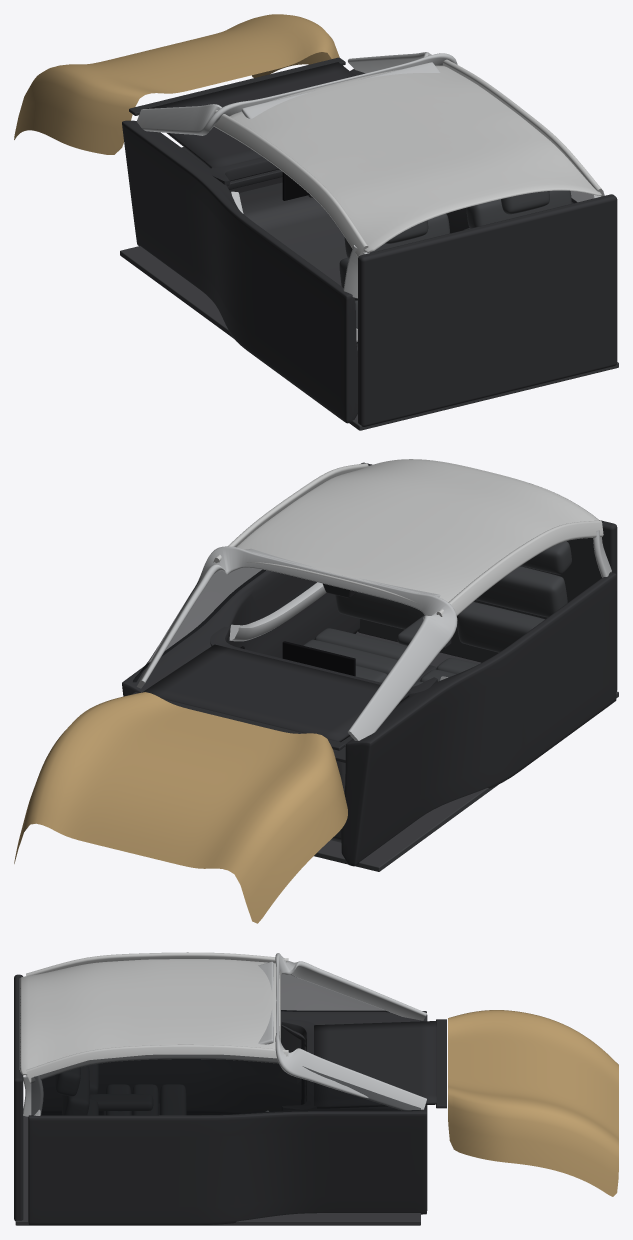
File: cabin.51d5c4b0.glb
3 renders of one model, top to bottom at view 1: azimuth 30°, elevation 25°; view 2: azimuth 150°, elevation 25°; view 3: azimuth 270°, elevation 25°, orthographic. The views are drawn at different scales.
Parts seen in each view (by area): view 1: Cabin; view 2: Cabin, Glass; view 3: Cabin, Glass.
Boxes of the visible parts, left/top/right/bottom form: Cabin: left=14, top=14, right=618, bottom=430; Cabin: left=14, top=459, right=618, bottom=923; Glass: left=133, top=567, right=265, bottom=682; Cabin: left=14, top=952, right=618, bottom=1225; Glass: left=31, top=974, right=420, bottom=1115.
Size of the model in its own units: 1.72 by 1.22 by 3.82.
